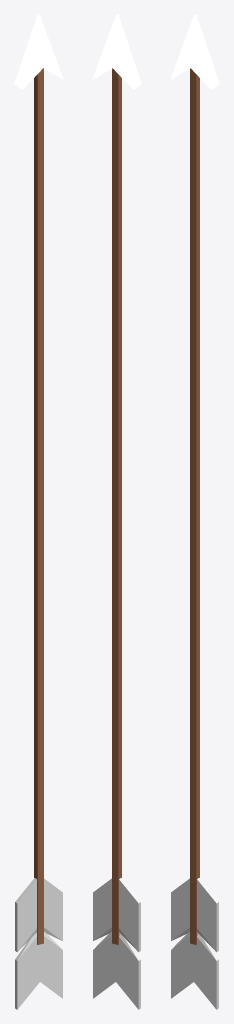
Rendered from ArrowGlow.glb.
The picture shows the model from 3 angles, left to right: view 1: azimuth 30°, elevation 25°; view 2: azimuth 150°, elevation 25°; view 3: azimuth 330°, elevation 25°; orthographic projection.
Parts seen in each view (by area): view 1: Arrow; view 2: Arrow; view 3: Arrow.
Part boxes in pixels (x1,y1,x2,y2): Arrow: (14, 14, 63, 1009); Arrow: (92, 14, 141, 1009); Arrow: (170, 14, 219, 1009).
Size of the model in its own units: 0.1947 by 4.03 by 0.0625.
